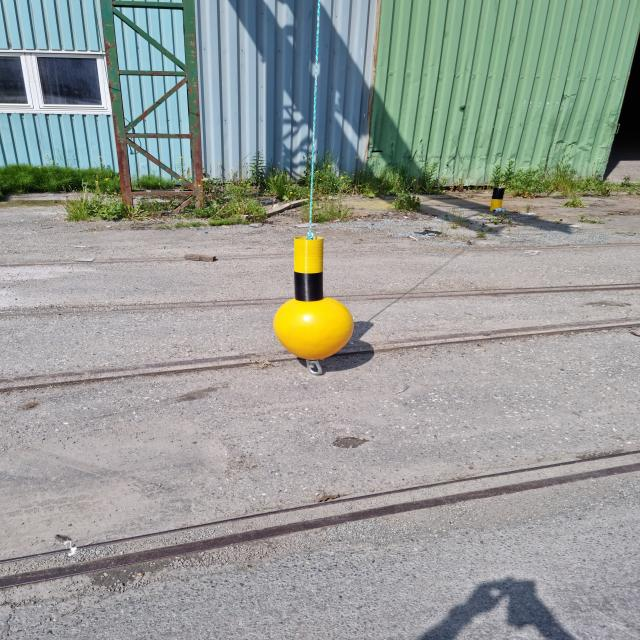west: (276, 237, 354, 360)
